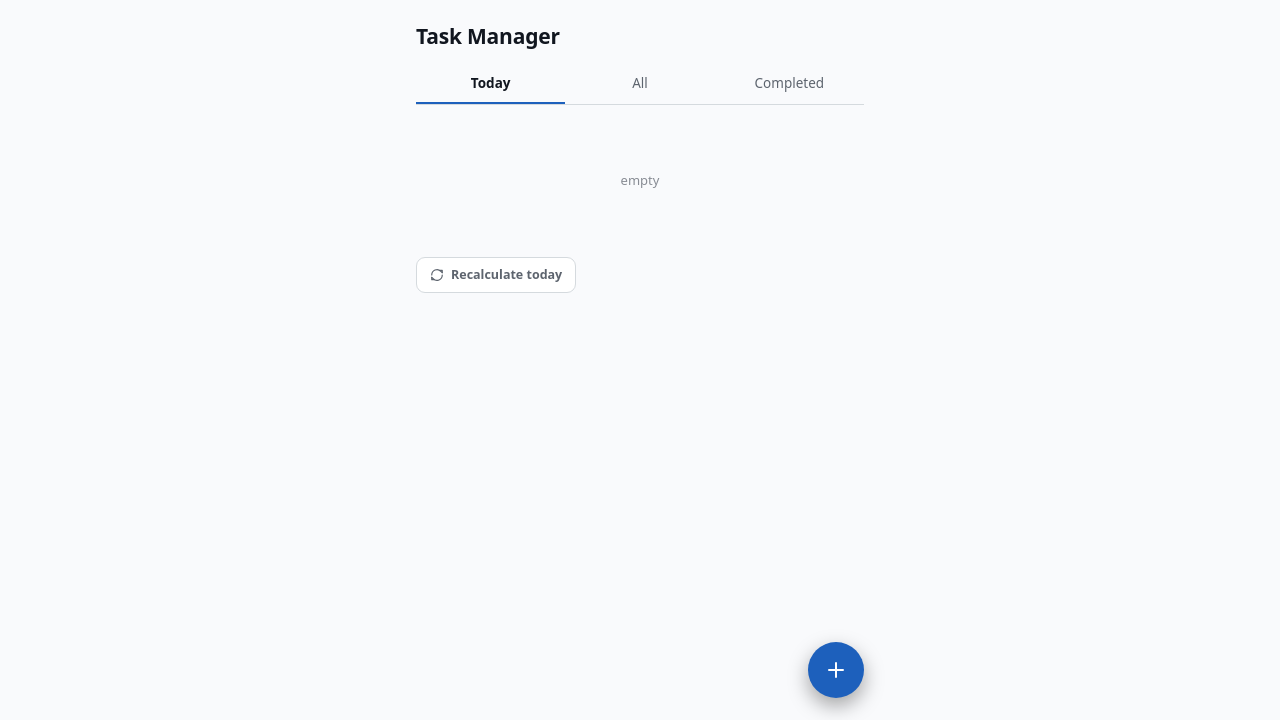
validating the create form (8.2) › rejects a blank name with a visible message and creates no task
Check: the button named "Add a task" is shown, box [808,642,864,698]
What coordinates should you click on to do the following:
click the button "All"
I would click on:
 (640, 85)
Its box is [565,65,715,104].
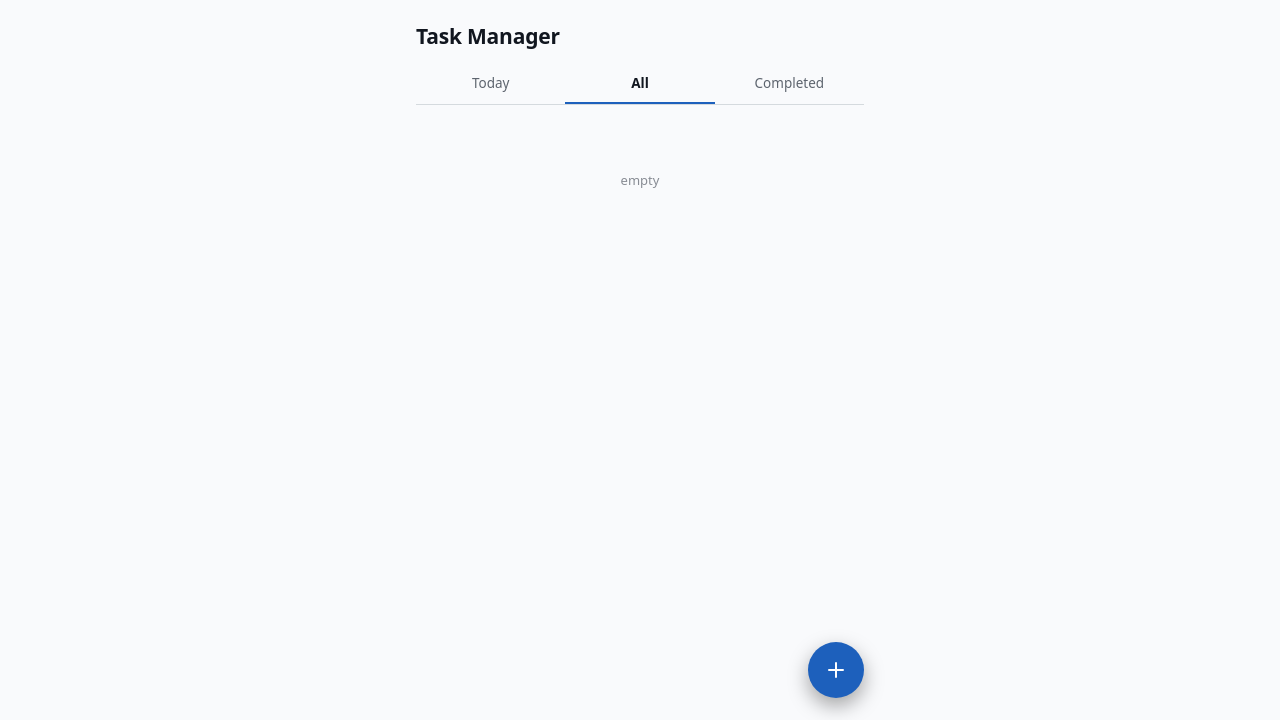
What coordinates should you click on to do the following:
click the button named "Add a task"
I would click on:
 (836, 670)
Its box is [808,642,864,698].
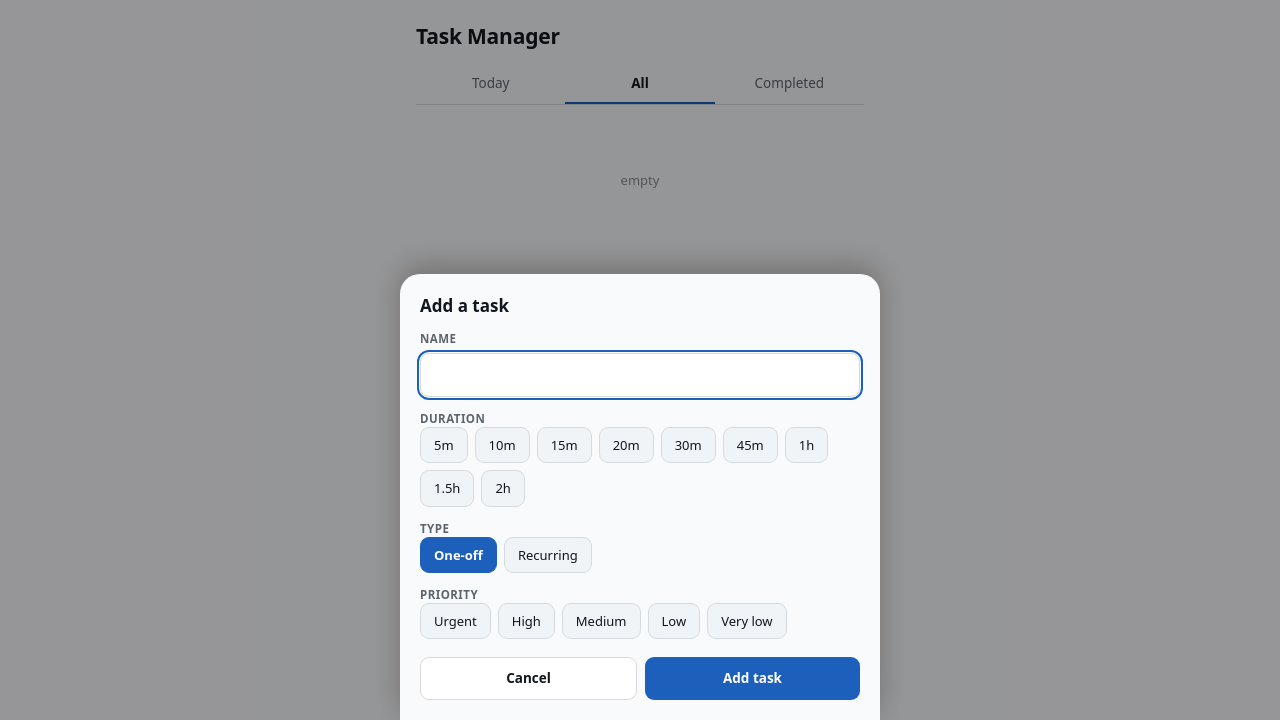
What coordinates should you click on to do the following:
click the button "15m"
I would click on:
 (564, 445)
Its box is [537,427,592,463].
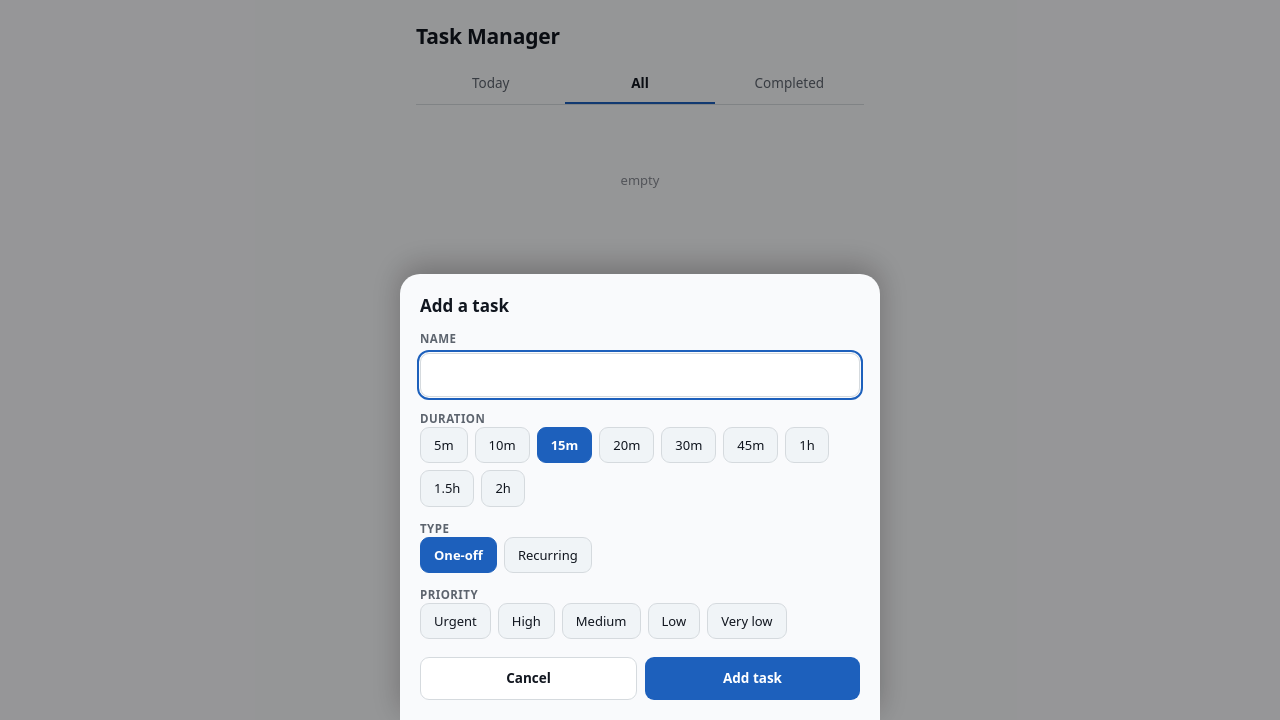
What coordinates should you click on to do the following:
click the button "Medium"
I would click on:
 (601, 621)
Its box is [562,603,640,639].
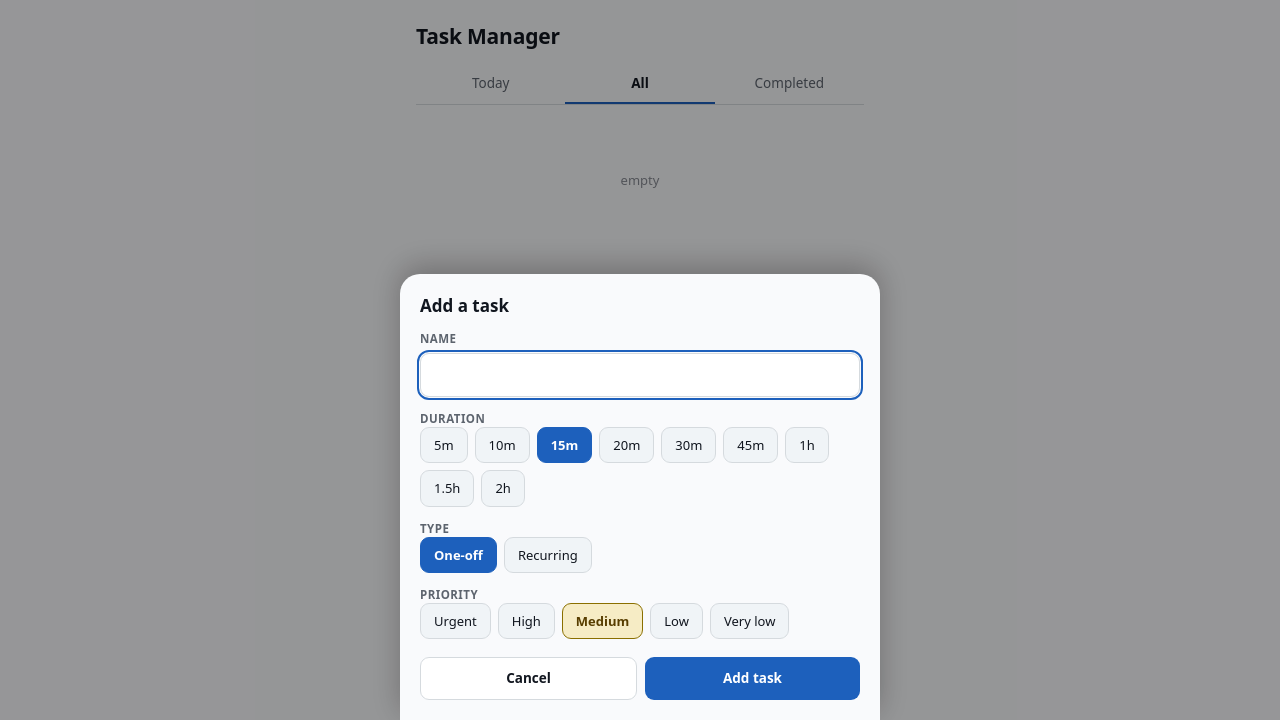
What coordinates should you click on to do the following:
click the button "Add task"
I would click on:
 (752, 679)
Its box is [645,657,860,700].
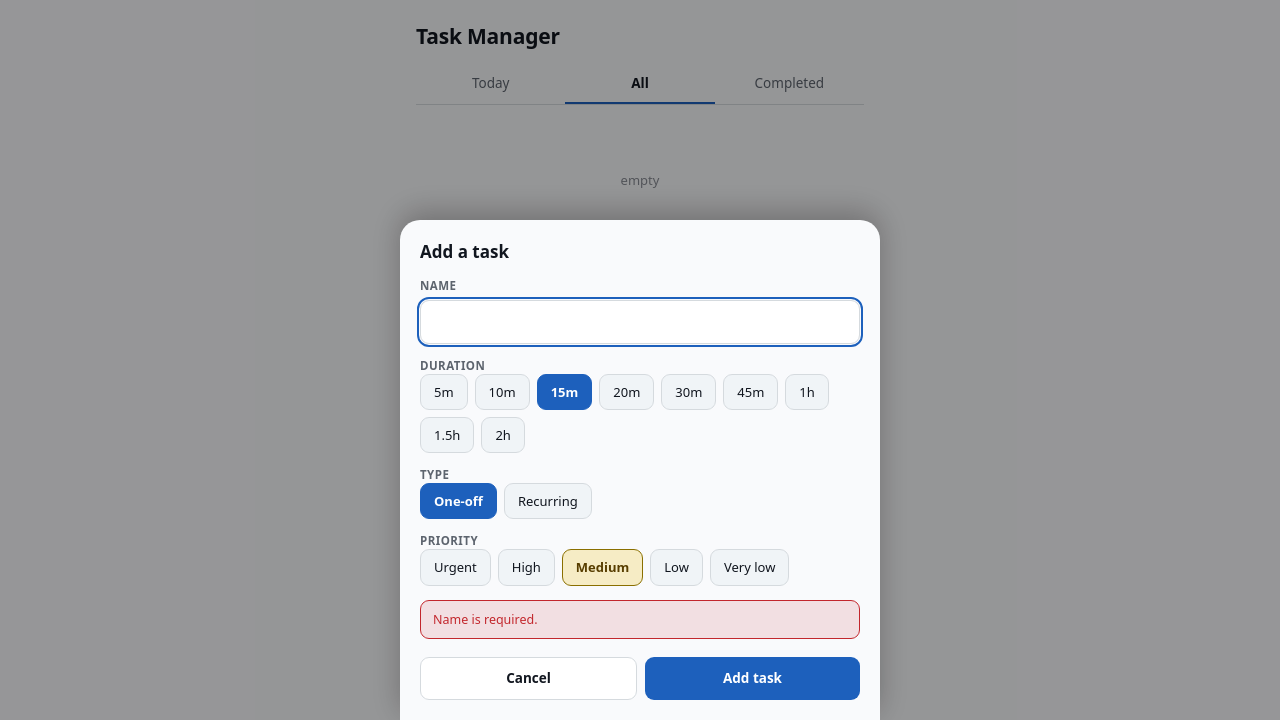
Check: the text "empty" is shown, box [621,171,659,189]
Check: the text "Name is required." is shown, box [433,611,538,628]
